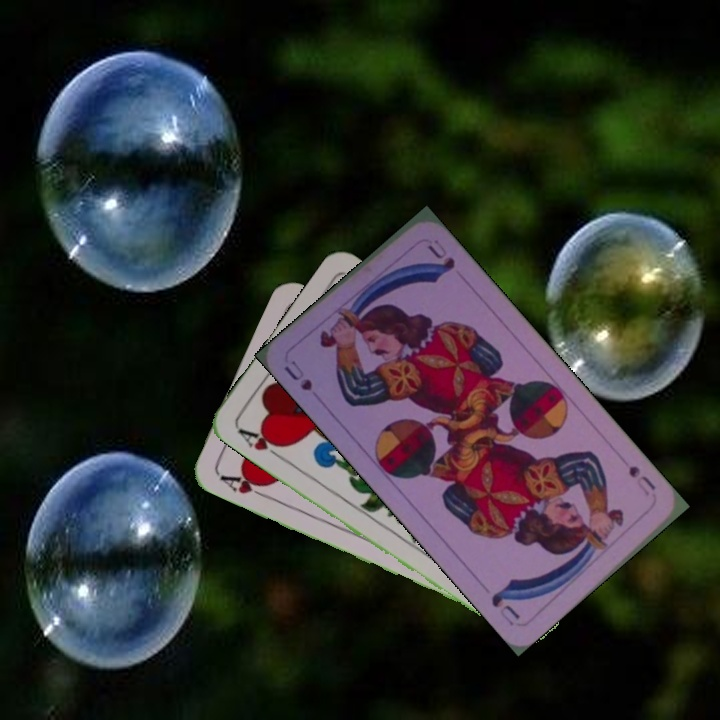HA: (233, 424, 288, 462), (215, 469, 272, 502)
SU: (279, 355, 315, 394), (624, 461, 659, 493)
